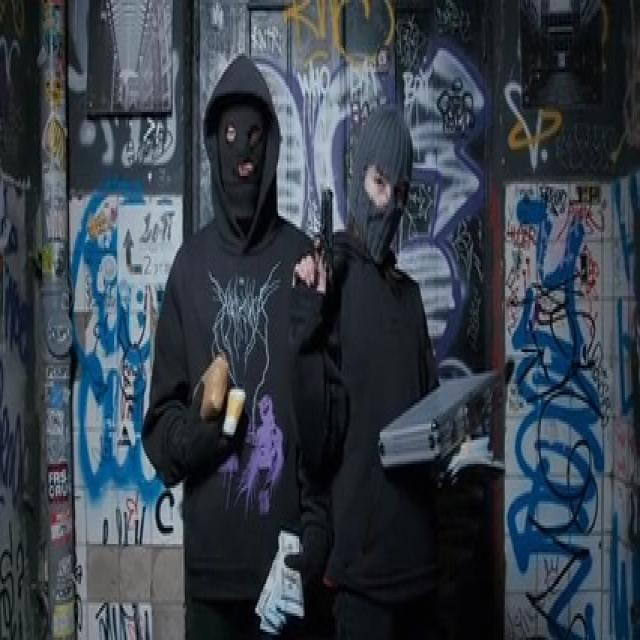Gun_Holder: (291, 180, 356, 330)
Person: (144, 52, 327, 640), (304, 82, 478, 640)
